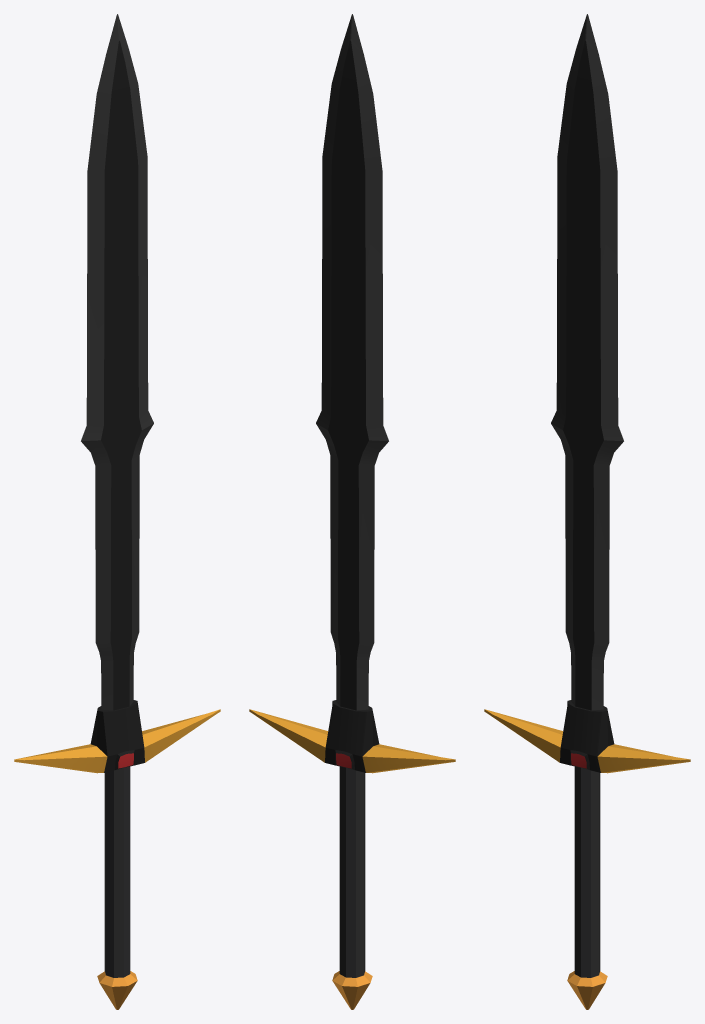
File: two_handed_sword_2.fbx
3 renders of one model, left to right at view 1: azimuth 30°, elevation 25°; view 2: azimuth 150°, elevation 25°; view 3: azimuth 330°, elevation 25°, orthographic.
Visible parts, largest first — view 1: two_handed_sword_2; view 2: two_handed_sword_2; view 3: two_handed_sword_2.
Part boxes in pixels (x1,y1,x2,y2): two_handed_sword_2: (14, 14, 220, 1009); two_handed_sword_2: (249, 14, 455, 1009); two_handed_sword_2: (484, 14, 690, 1009).
Size of the model in its own units: 0.3822 by 1.76 by 0.0673.
Materials: 1 (1 with a texture image).
